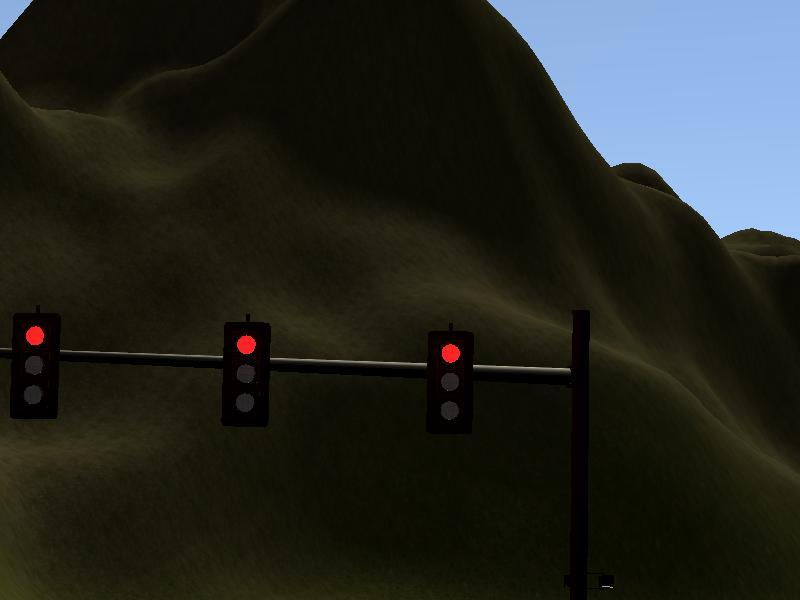Red: (225, 324, 270, 422), (428, 331, 469, 433), (17, 315, 57, 418)
